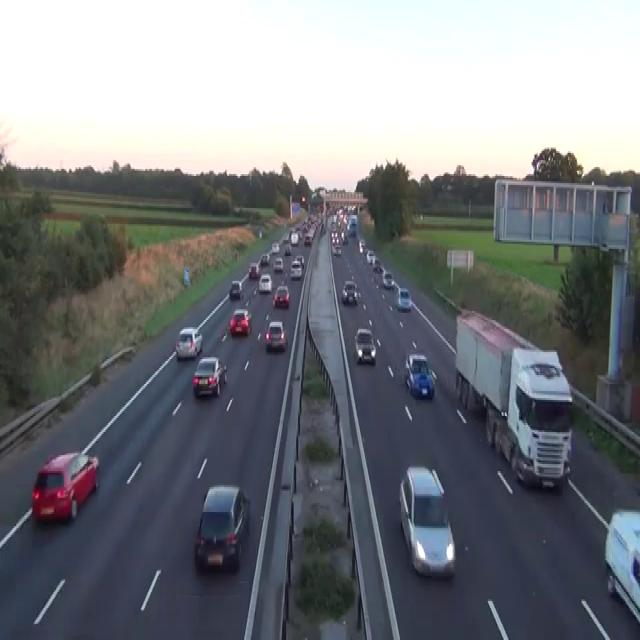Car: (398, 464, 456, 578), (194, 483, 250, 572), (31, 452, 99, 524), (604, 506, 639, 626), (404, 352, 436, 398), (192, 356, 227, 396), (175, 325, 202, 359), (354, 327, 376, 365), (229, 308, 252, 336), (265, 320, 286, 350), (341, 279, 359, 304), (273, 284, 290, 308), (396, 286, 411, 311), (229, 279, 243, 299), (258, 274, 272, 293), (290, 260, 302, 279), (248, 261, 260, 279), (382, 270, 394, 288), (331, 238, 341, 256), (273, 256, 283, 272), (372, 258, 383, 272), (259, 252, 270, 265), (366, 249, 375, 263), (295, 254, 304, 267), (330, 229, 339, 242), (290, 231, 298, 245), (358, 238, 365, 252), (304, 233, 312, 245), (341, 230, 348, 243), (284, 244, 291, 256), (271, 242, 279, 252), (295, 224, 301, 235), (283, 233, 289, 243), (258, 228, 262, 238)
Truck: (454, 308, 574, 490)
